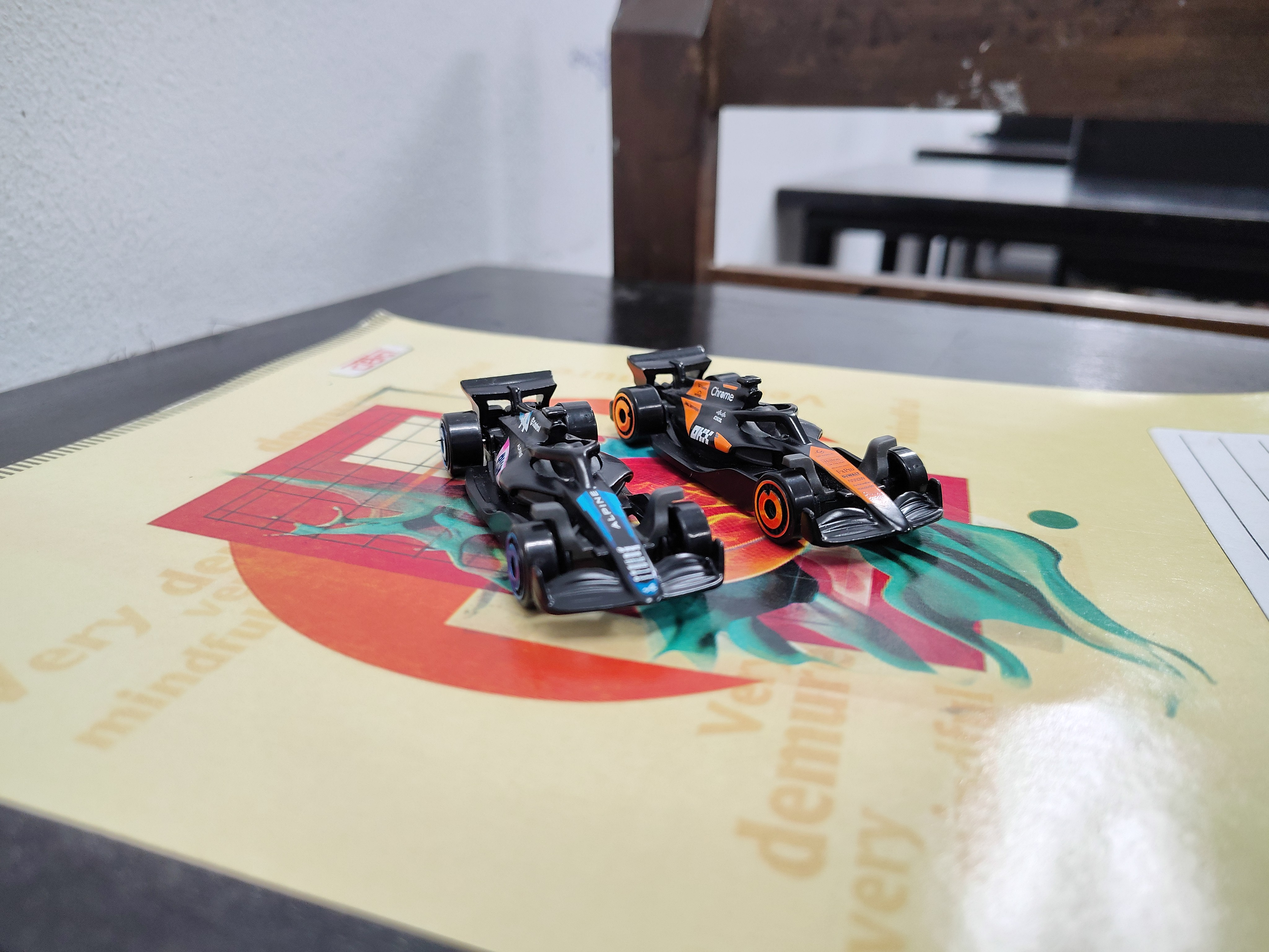Alpine A524: (414, 330, 688, 645)
McLaren MCL40: (578, 277, 979, 550)
